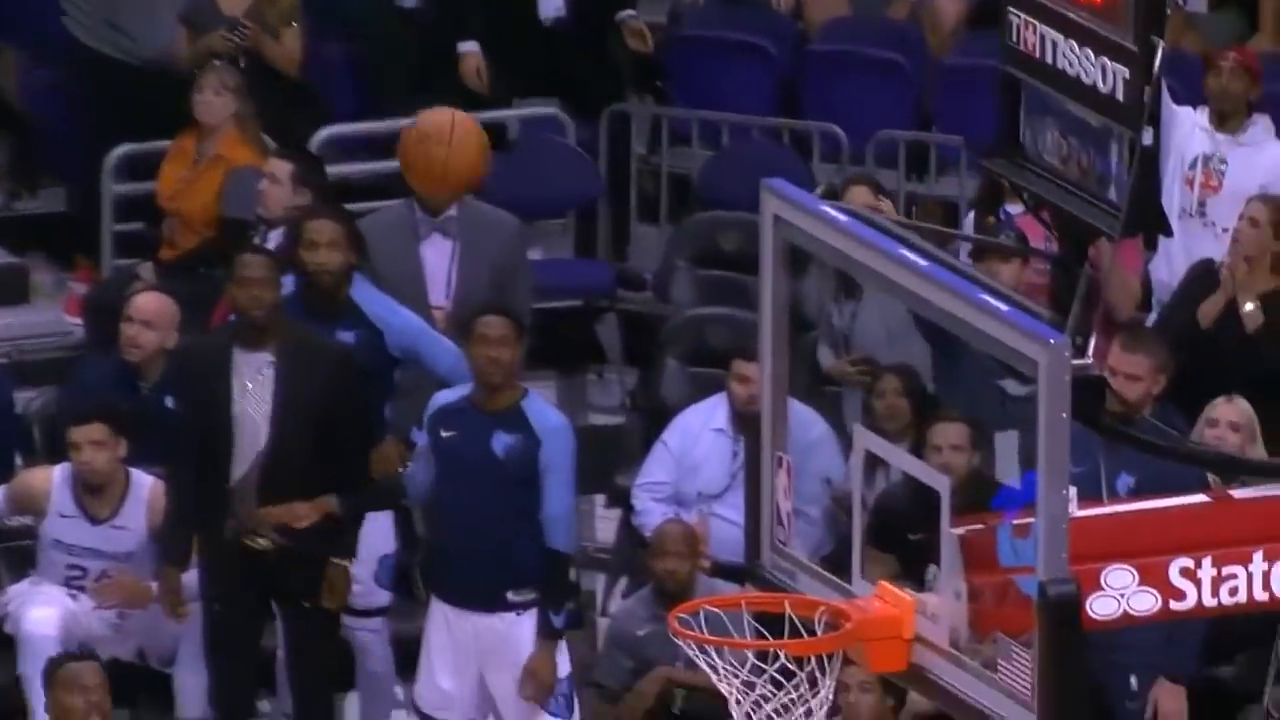ball: (398, 103, 496, 200)
